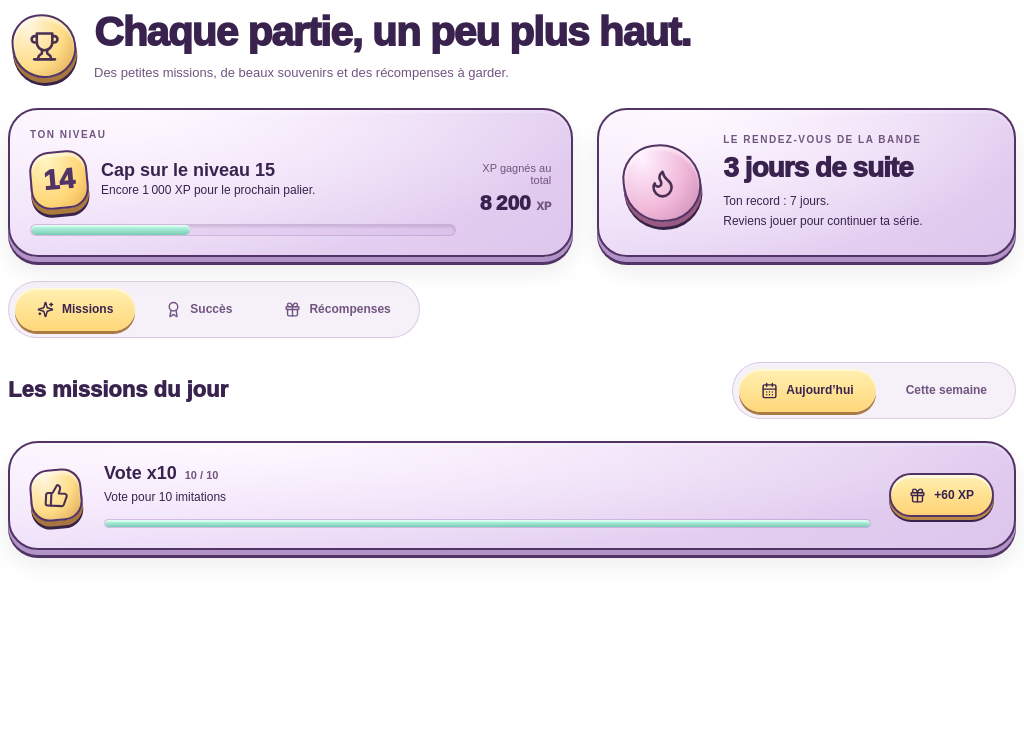
Test case: Bubble progression › shows a complete collection without a dead roadmap
The image size is (1024, 749).
Click the tab "Récompenses".
click(338, 309)  # box [262,288,413,331]
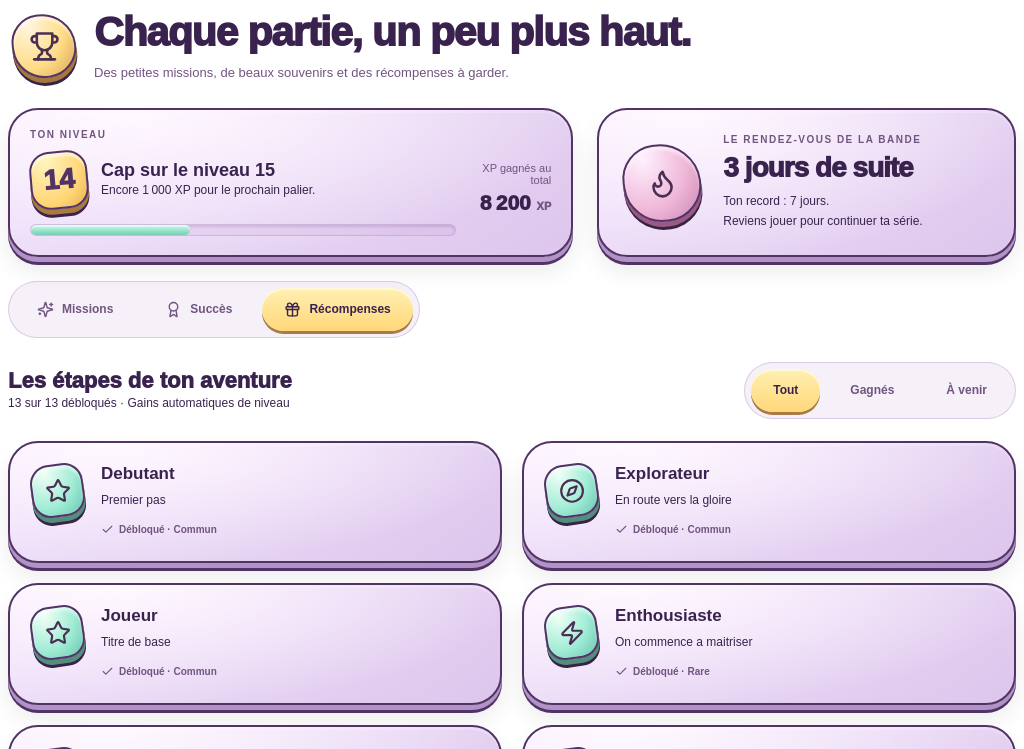
Click the button "À venir".
click(967, 390)  # box [924,369,1009,412]
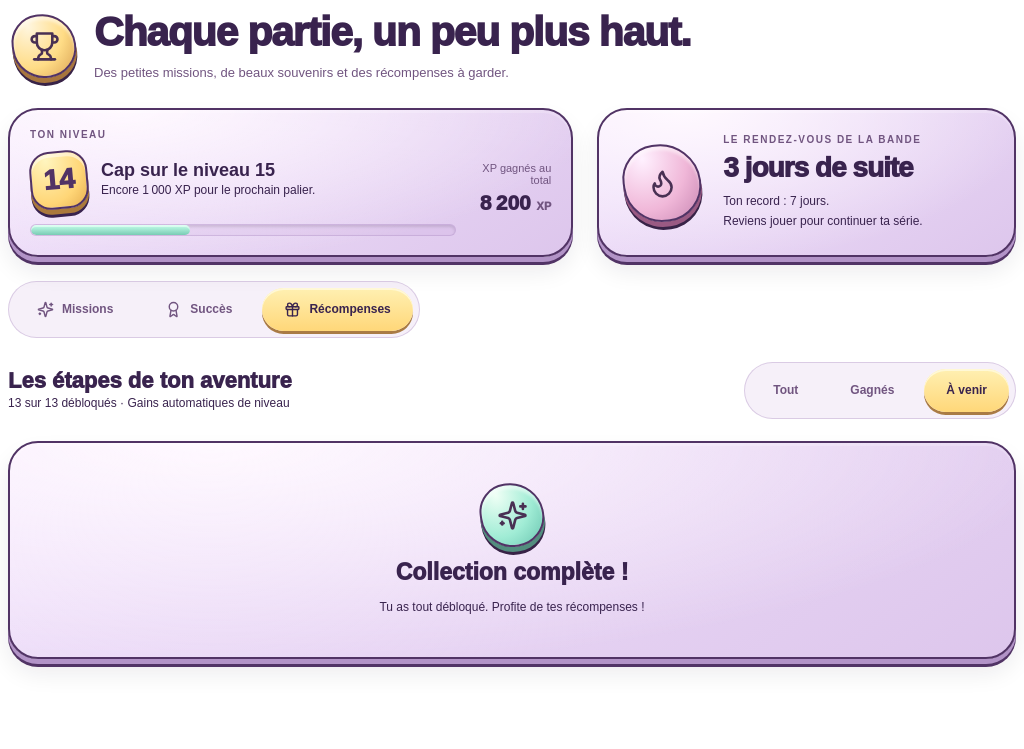
Check: the heading "Collection complète !" is shown, box [396,559,628,586]
